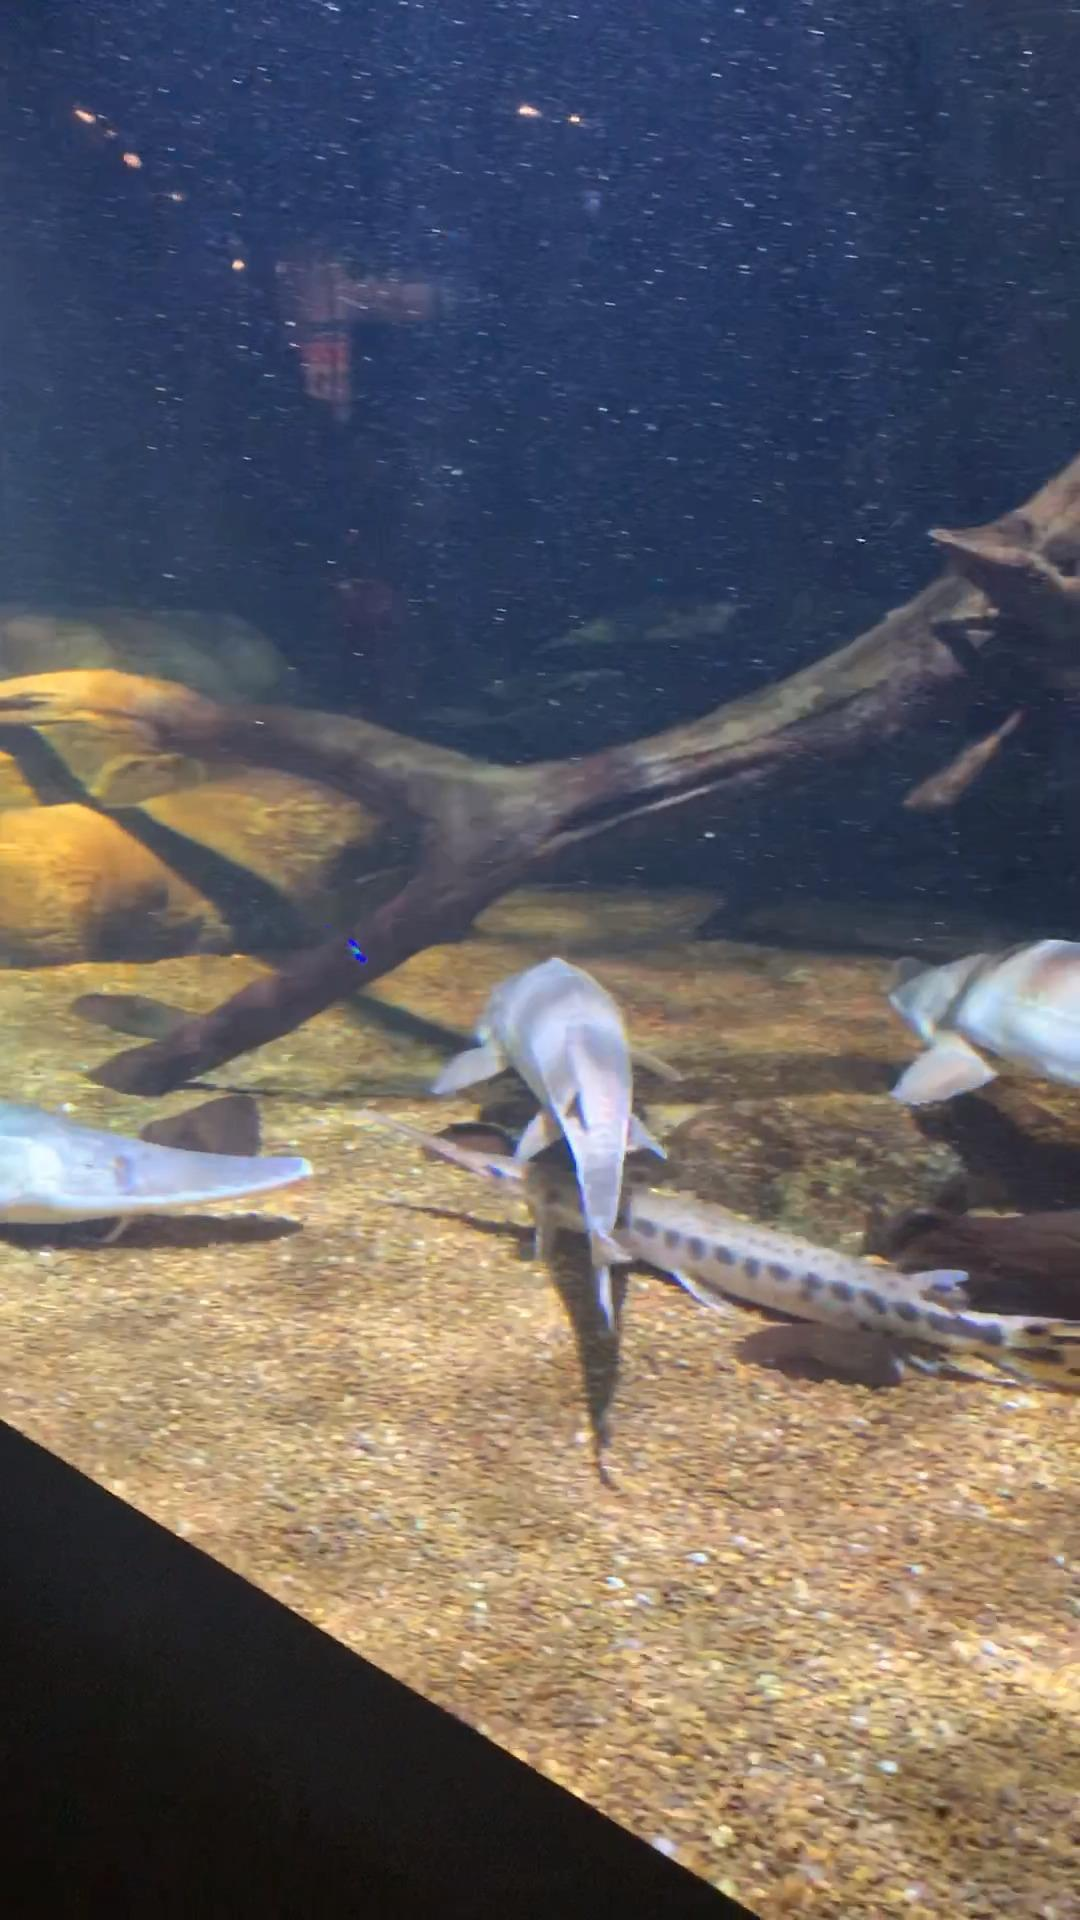fish: (359, 1104, 1080, 1398), (0, 1103, 313, 1231)
shark: (438, 943, 677, 1332)
